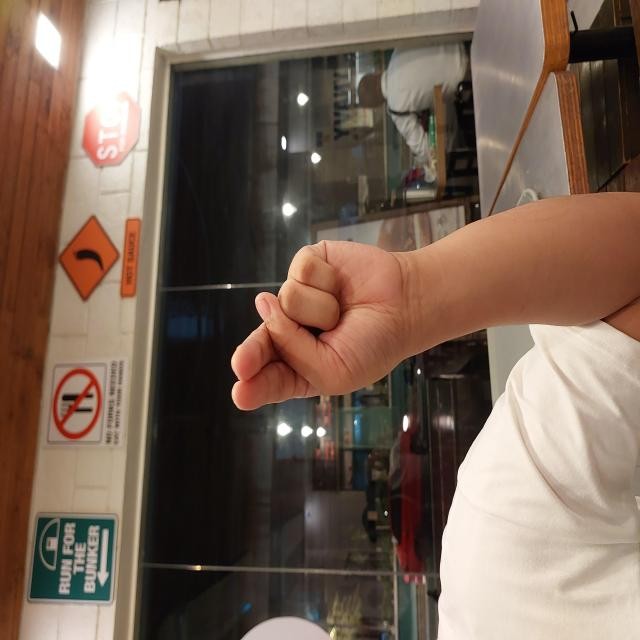N: (226, 230, 401, 413)
